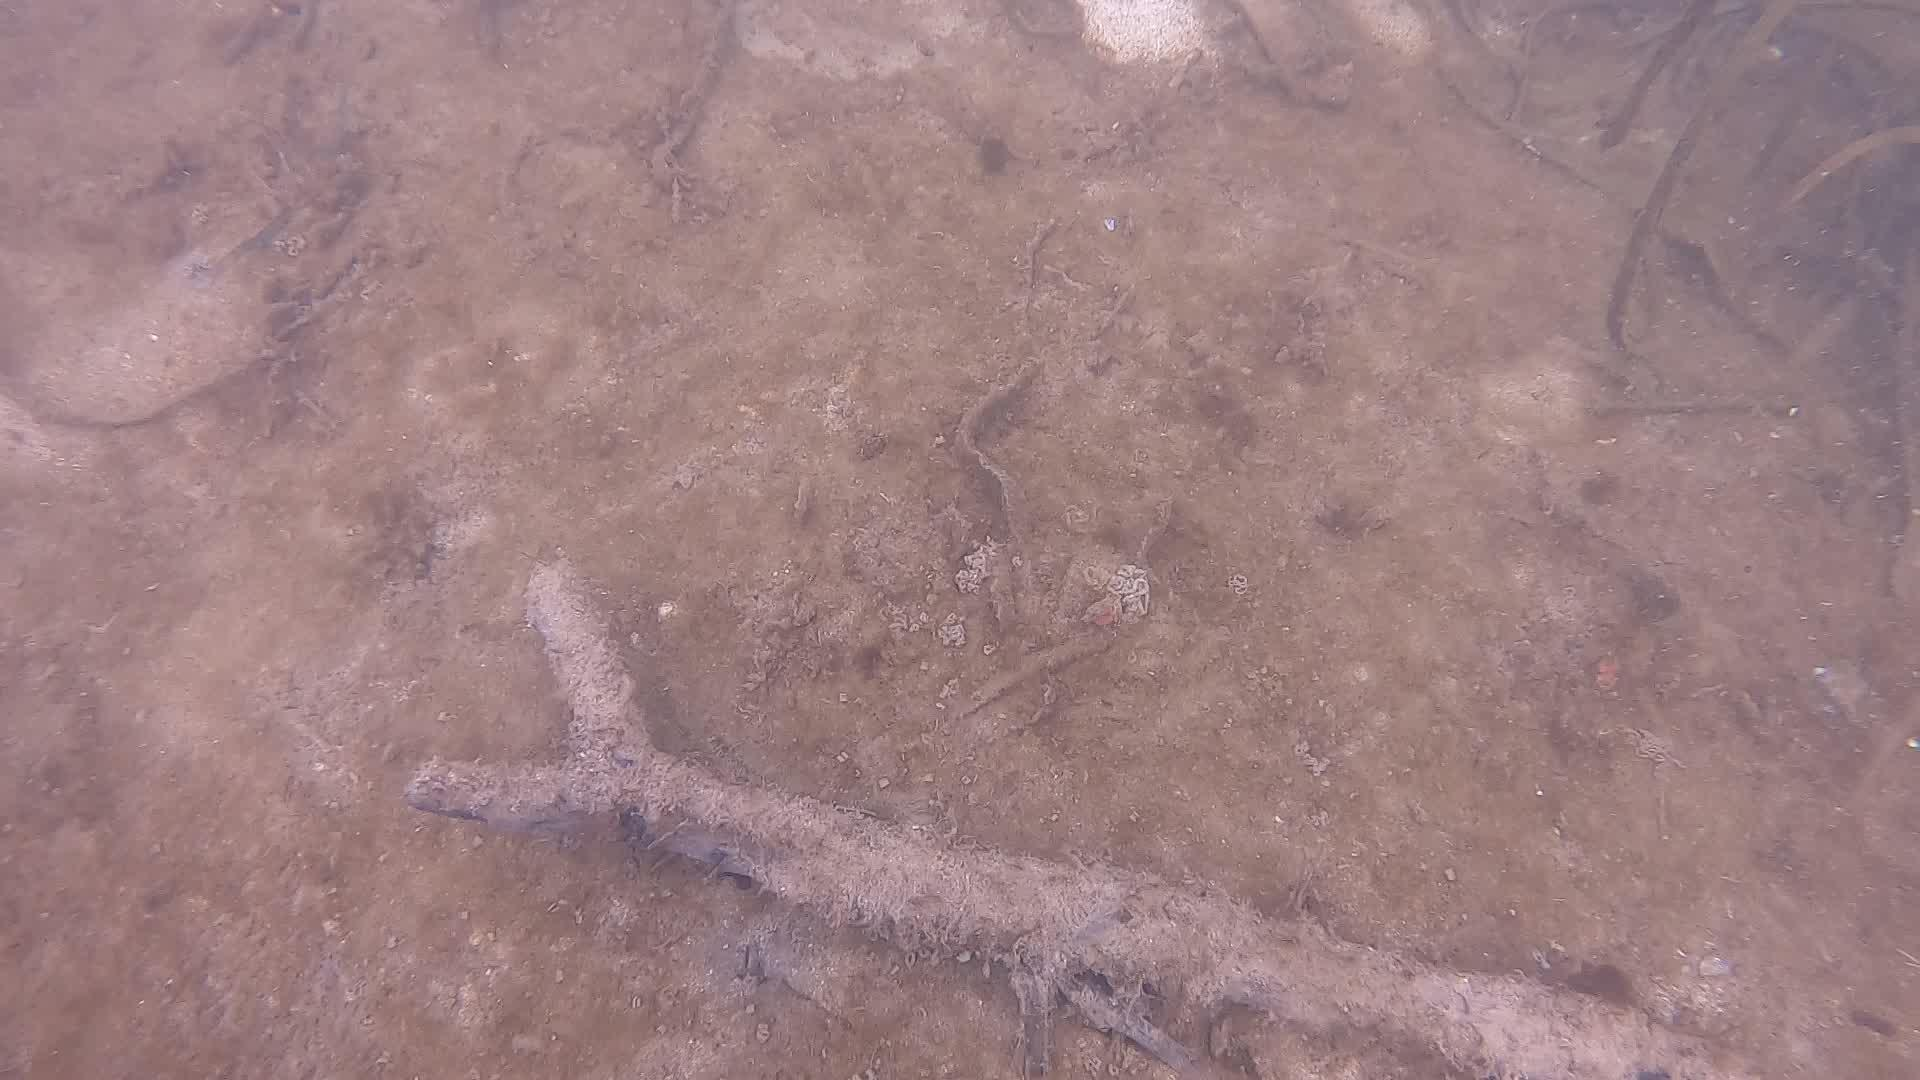wood: (404, 556, 1801, 1080)
